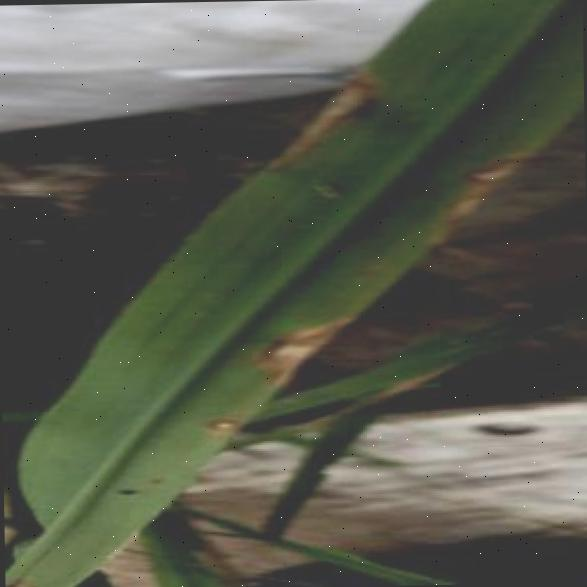Leaf_smut: (270, 53, 396, 188), (418, 130, 543, 237), (229, 304, 368, 400), (184, 395, 273, 466)
